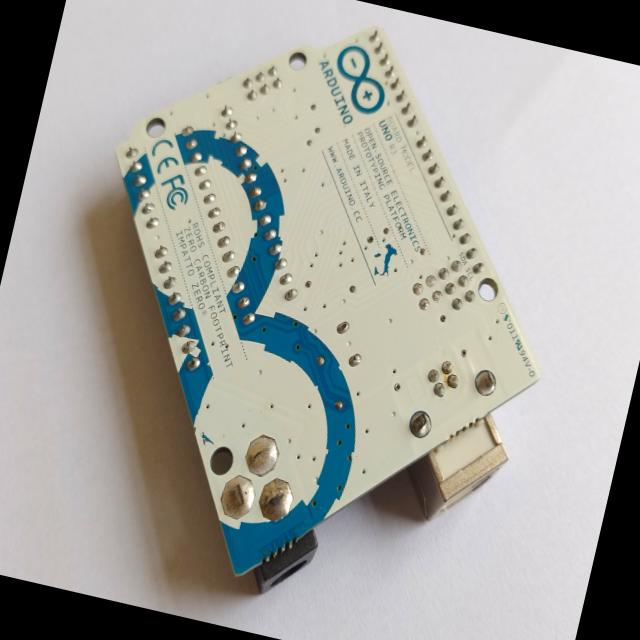arduino: (21, 0, 616, 640)
